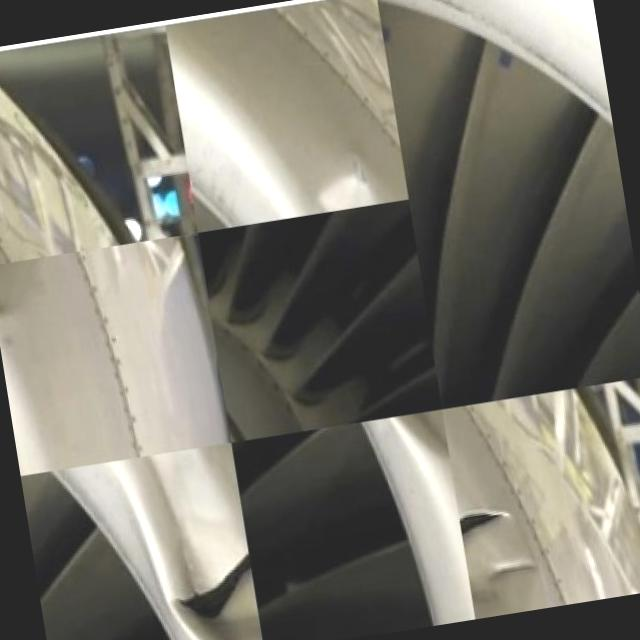crack: (168, 547, 260, 633), (454, 504, 523, 545)
